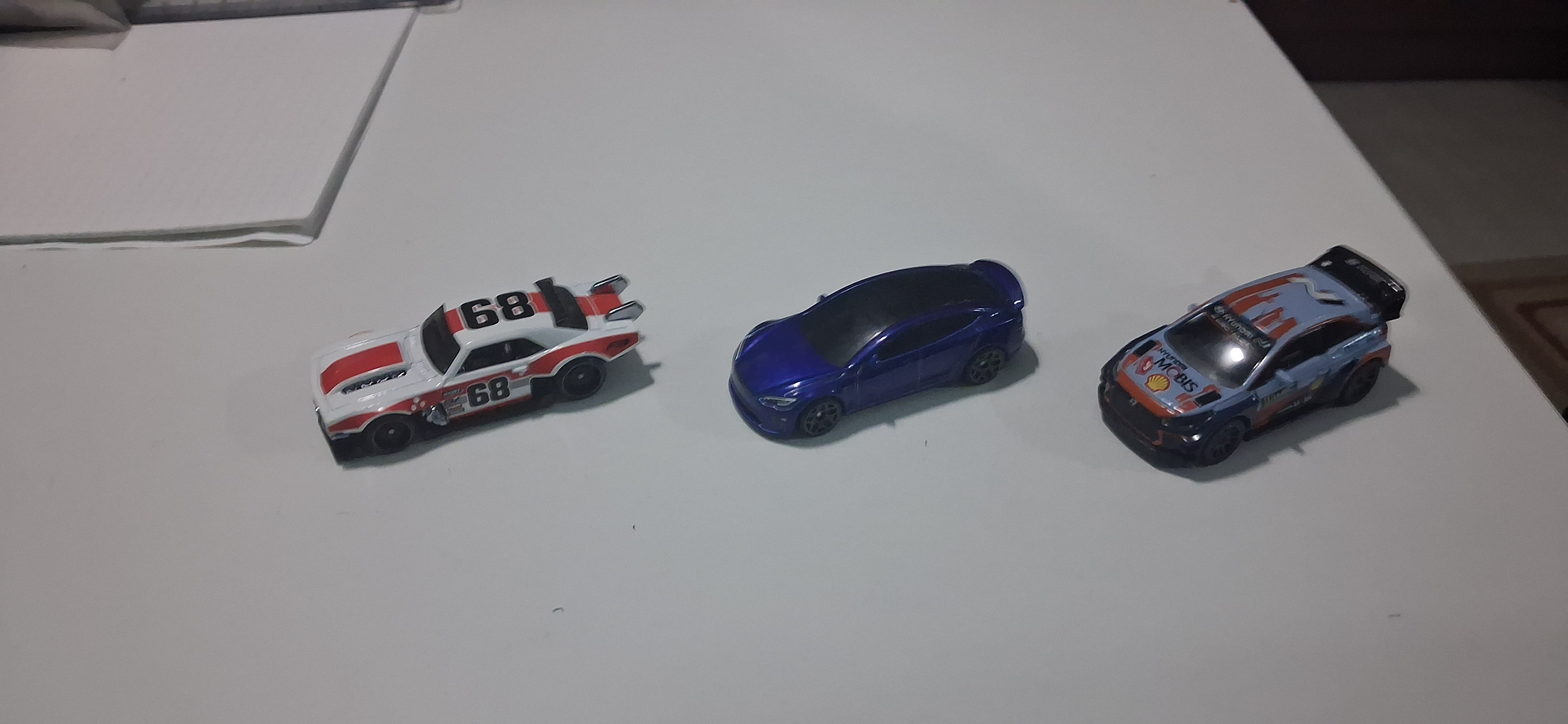Camaro: (285, 238, 679, 489)
Hyundai_I20_WRC: (1079, 231, 1425, 493)
Tesla_Model_S_Plaid: (716, 234, 1045, 496)
